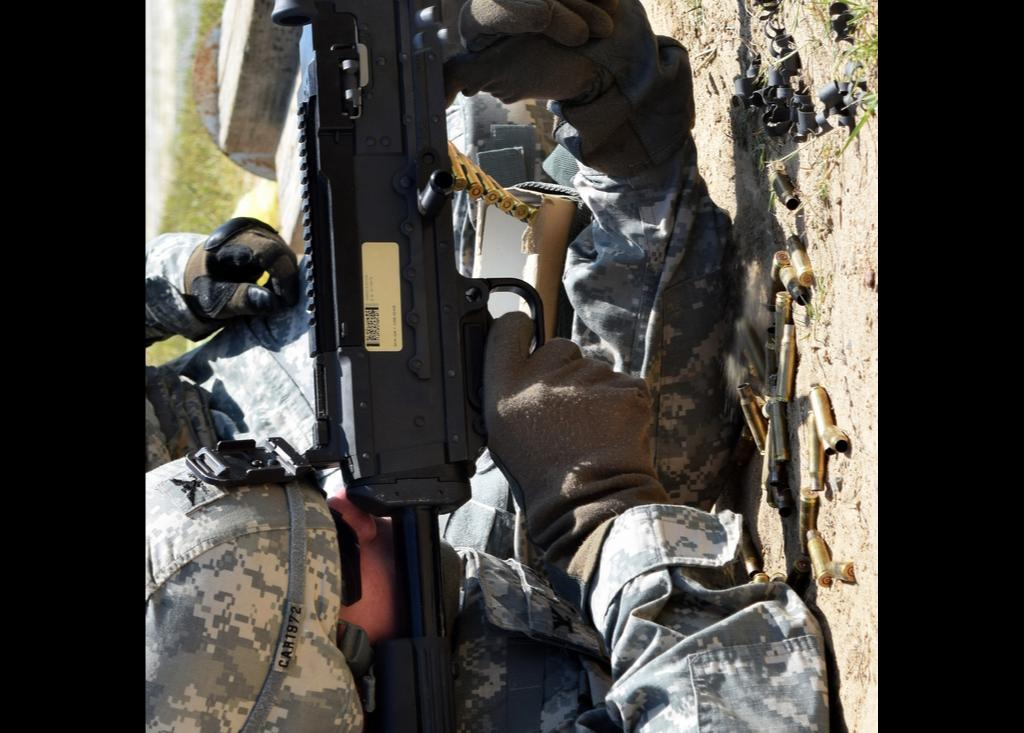gun: (256, 0, 501, 733)
